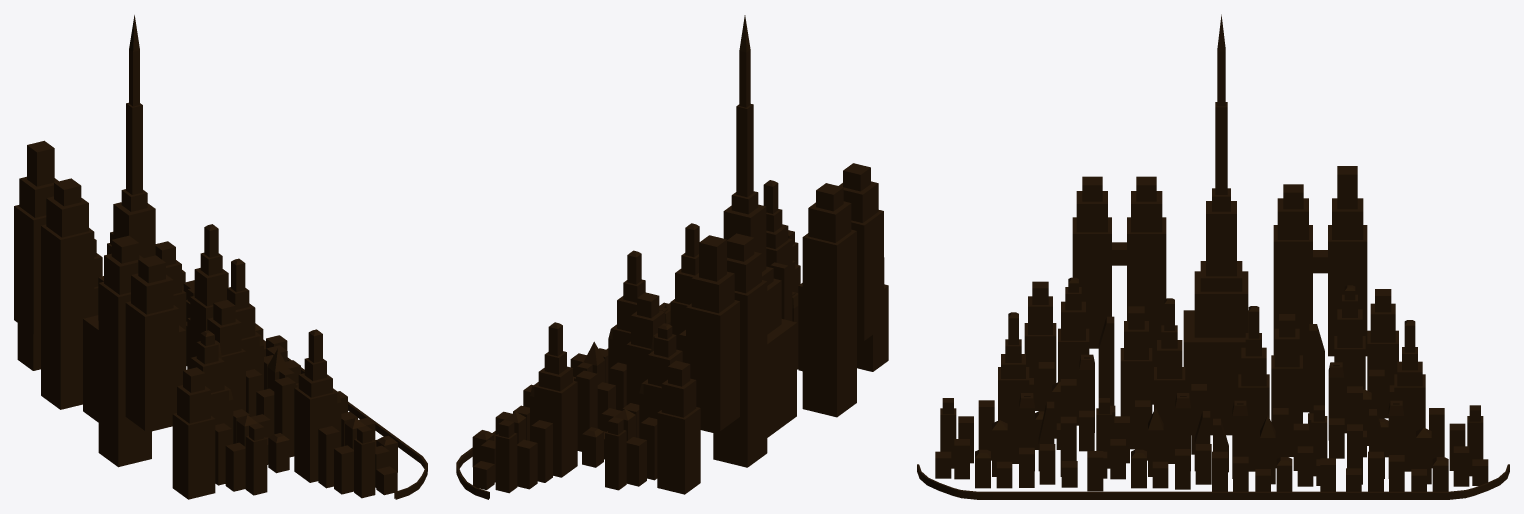
The model's file is SM_Eden.fbx.
3 renders of one model, left to right at view 1: azimuth 30°, elevation 25°; view 2: azimuth 150°, elevation 25°; view 3: azimuth 270°, elevation 25°, orthographic.
Visible parts, largest first — view 1: ambientLight2; view 2: ambientLight2; view 3: ambientLight2.
Part boxes in pixels (x1=…): ambientLight2: x1=14, y1=15, x2=427, y2=499; ambientLight2: x1=456, y1=15, x2=888, y2=499; ambientLight2: x1=917, y1=14, x2=1509, y2=499.
Bounding box in the file's own units: 1507 × 2514 × 3333.
